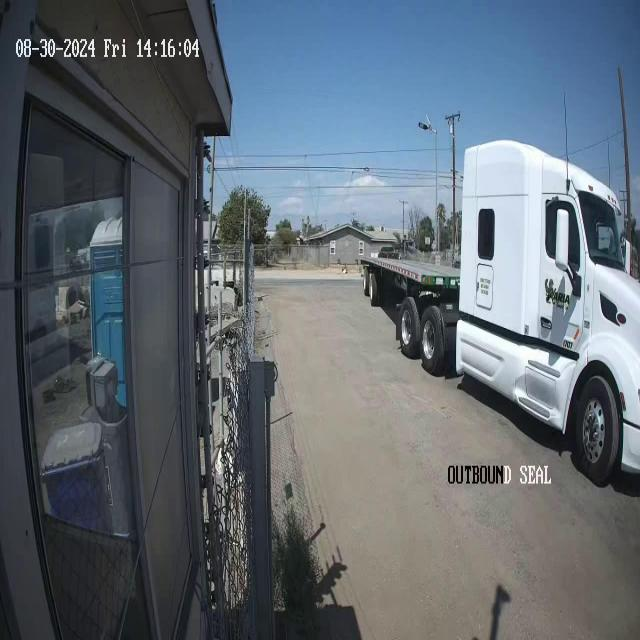TRUCK_IN: (360, 137, 640, 488)
